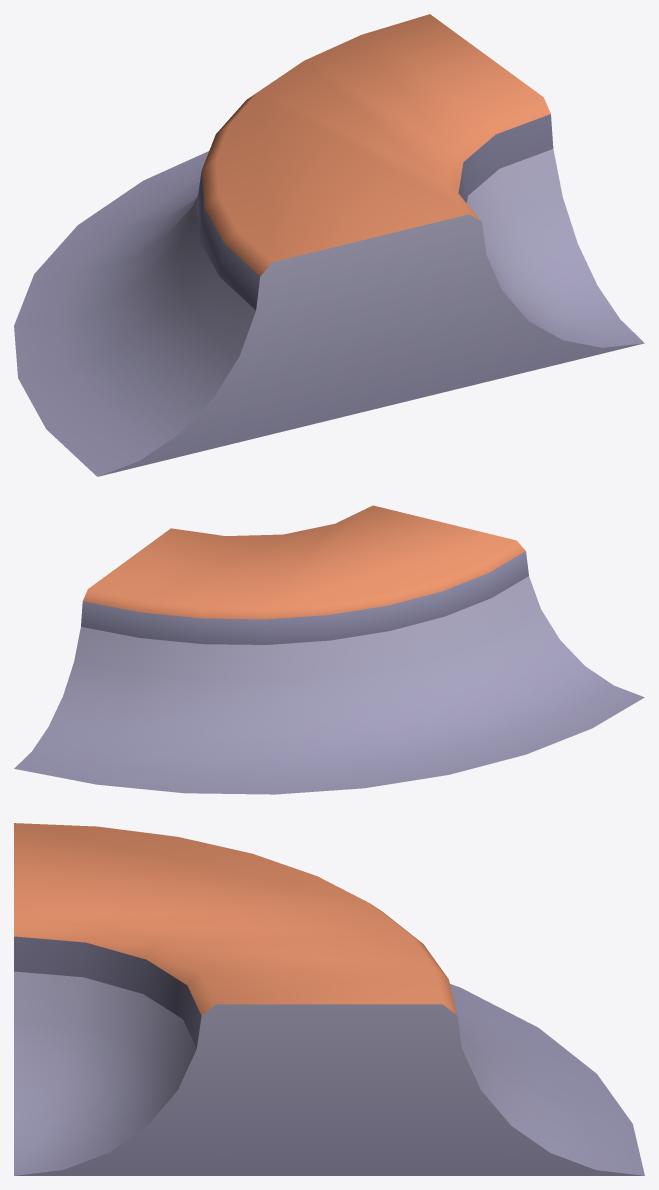
The model's file is mini-skate--obstacle-corner.glb.
3 renders of one model, top to bottom at view 1: azimuth 30°, elevation 25°; view 2: azimuth 150°, elevation 25°; view 3: azimuth 270°, elevation 25°, orthographic. The views are drawn at different scales.
Visible parts, largest first — view 1: obstacle-corner; view 2: obstacle-corner; view 3: obstacle-corner.
Boxes of the visible parts, x1,y1,x2,y2 form: obstacle-corner: (14, 14, 644, 476); obstacle-corner: (14, 505, 644, 794); obstacle-corner: (14, 823, 644, 1175).
Size of the model in its own units: 1 by 0.3 by 1.
Materials: 1 (1 with a texture image).
